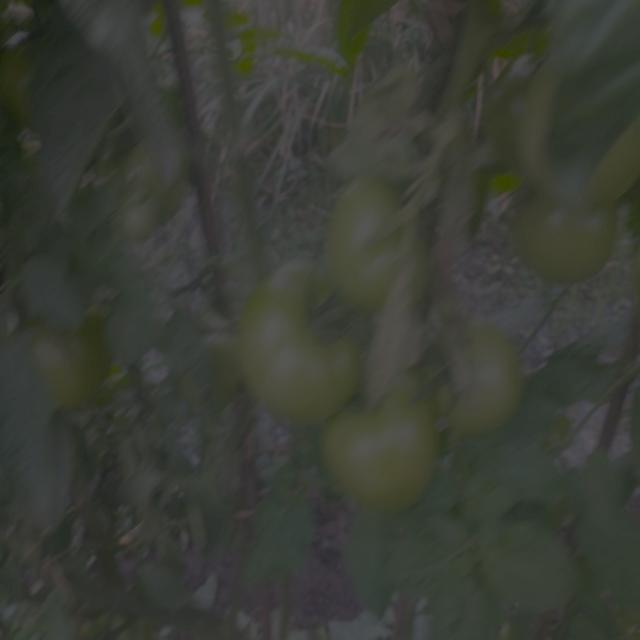tomato: (240, 266, 355, 410), (317, 392, 435, 505), (329, 179, 409, 311), (505, 200, 618, 288), (438, 324, 527, 433), (27, 324, 114, 402), (1, 39, 35, 129), (114, 183, 164, 233)
